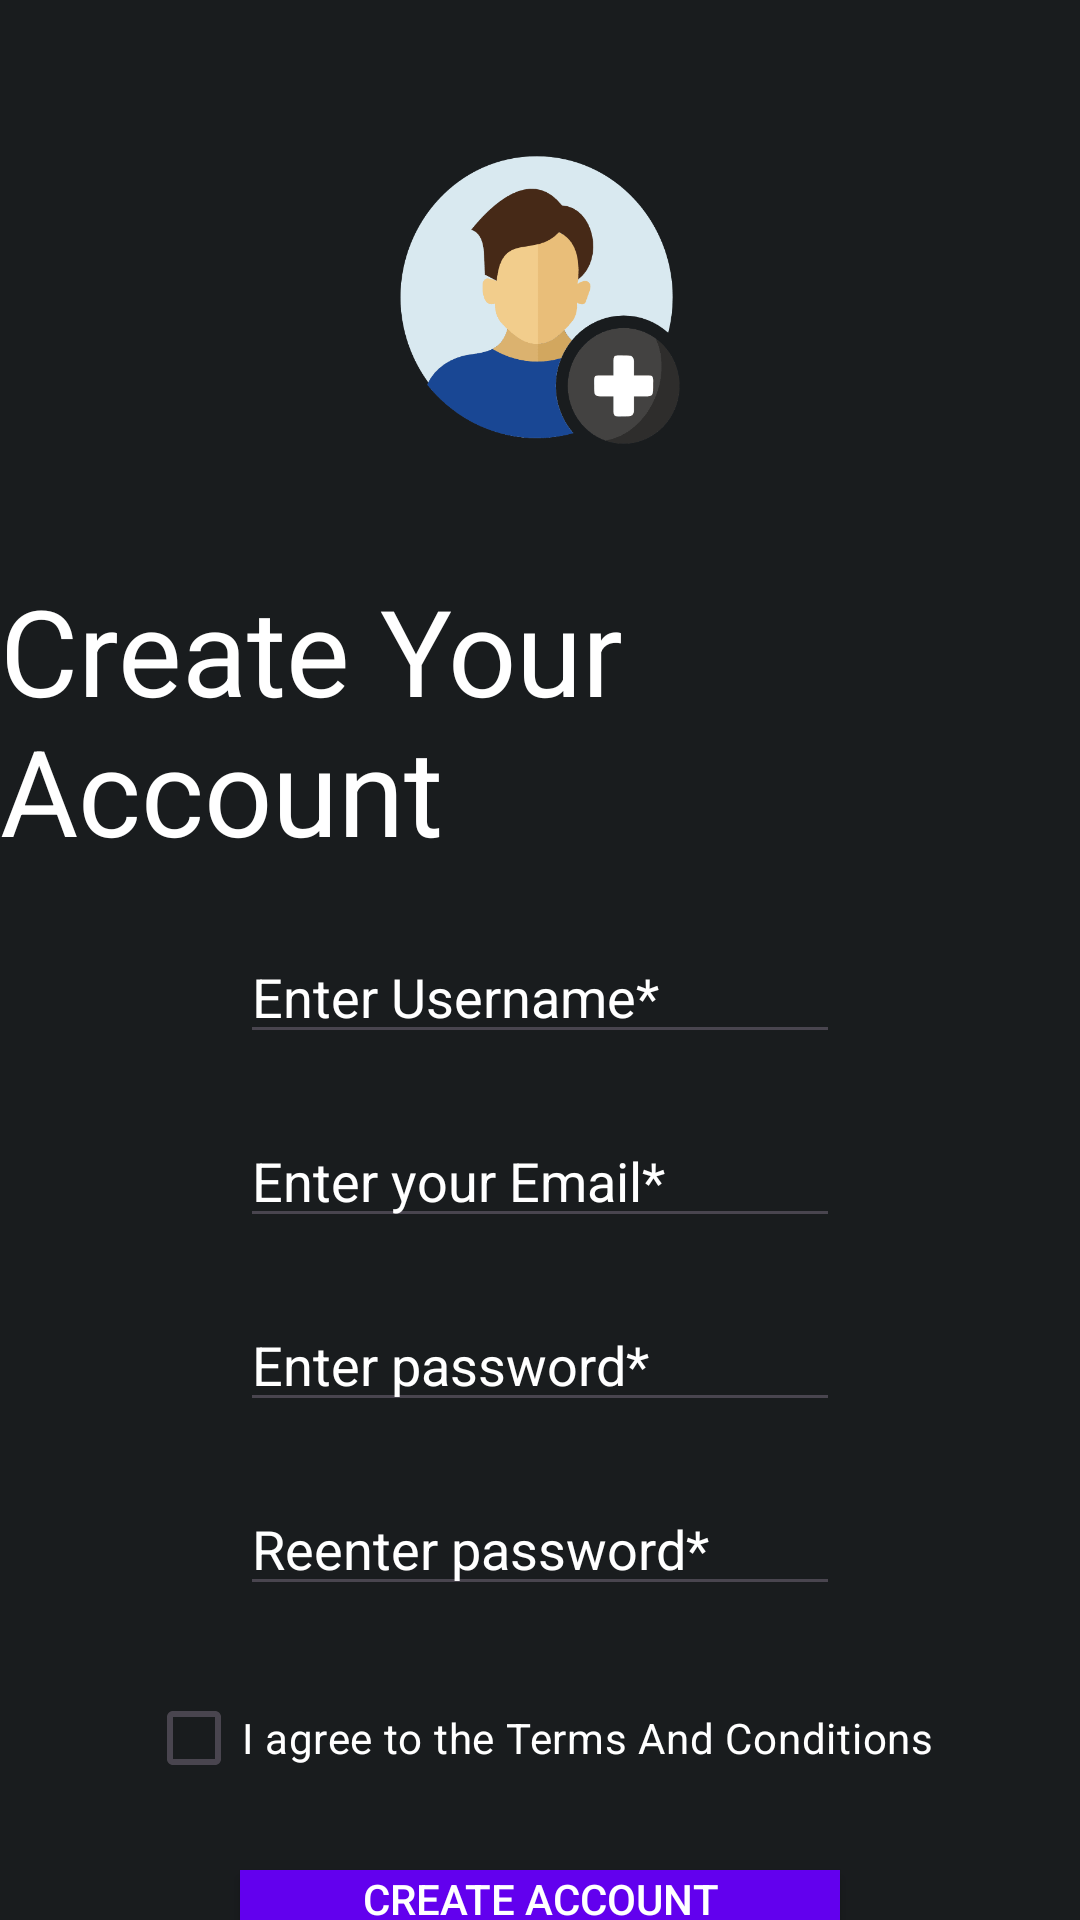

Icon click points for this 1080px×1920px phone screenshot, format point (x, y):
signup: point (539, 298)
